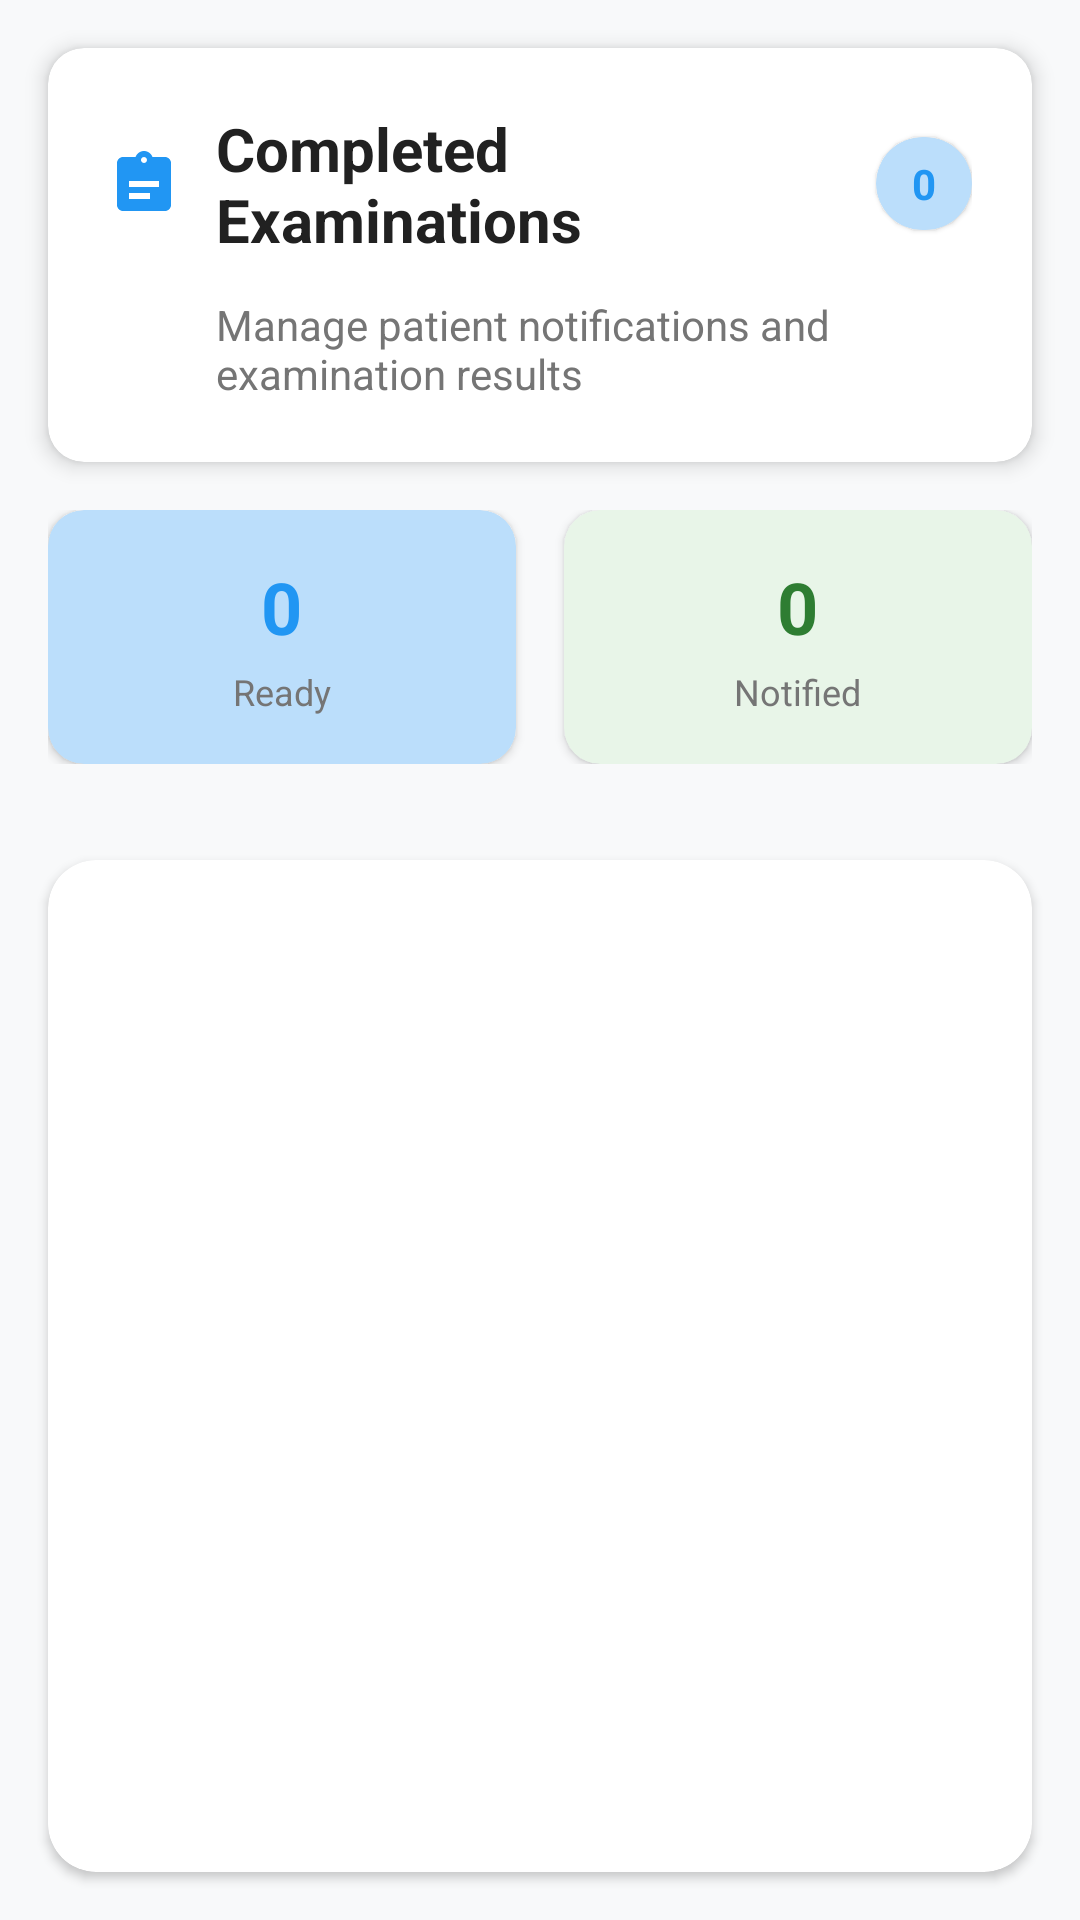

Where icons sit on this 1080 × 1920 app screen, as (x1, y1, x2, y2):
medical records: (117, 151, 171, 211)
